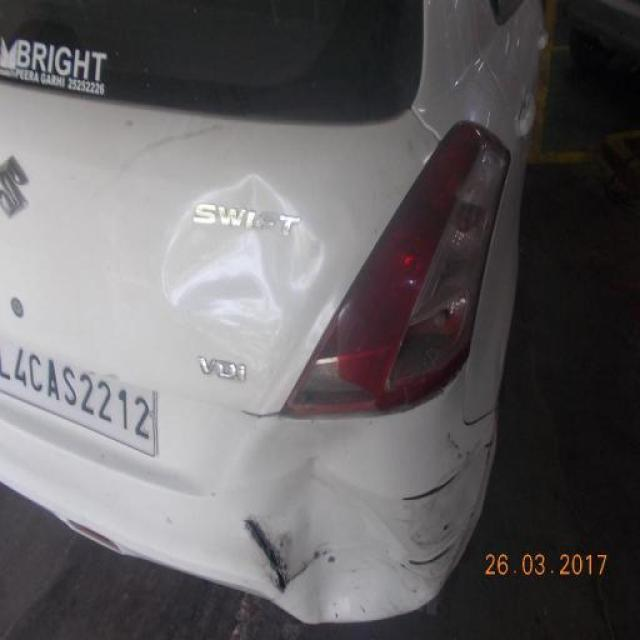dent: (157, 179, 330, 367), (291, 461, 435, 624)
scratch: (244, 513, 287, 597), (284, 541, 340, 594), (401, 459, 466, 504), (406, 535, 461, 575)
